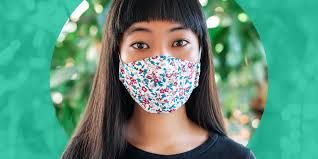with-mask: (112, 13, 206, 117)
